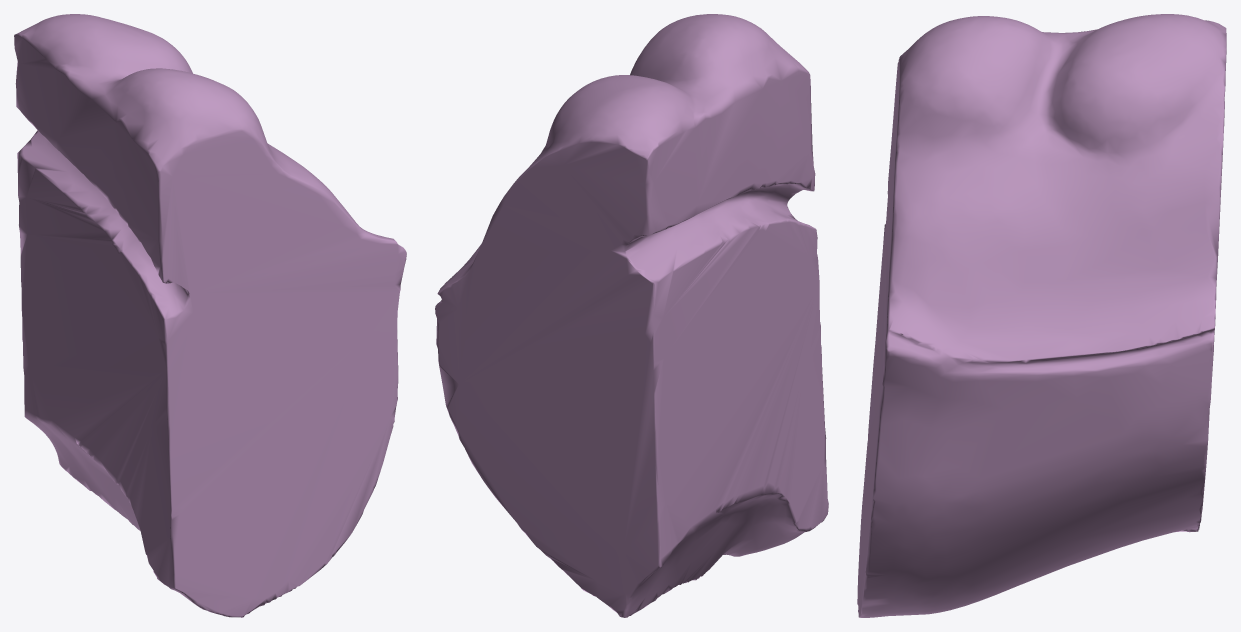
3 renders of one model, left to right at view 1: azimuth 30°, elevation 25°; view 2: azimuth 150°, elevation 25°; view 3: azimuth 270°, elevation 25°, orthographic. The views are drawn at different scales.
Parts seen in each view (by area): view 1: 左侧中脑; view 2: 左侧中脑; view 3: 左侧中脑.
Part boxes in pixels (box(x1,y1,x2,y2)): 左侧中脑: box(14, 14, 406, 617); 左侧中脑: box(435, 14, 828, 617); 左侧中脑: box(857, 14, 1226, 617).
Size of the model in its own units: 0.021 by 0.042 by 0.0244.
